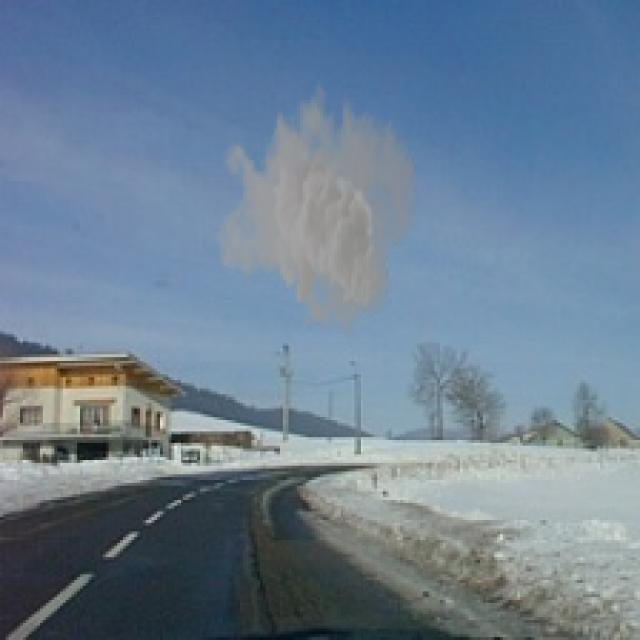Smoke: (214, 71, 420, 343)
